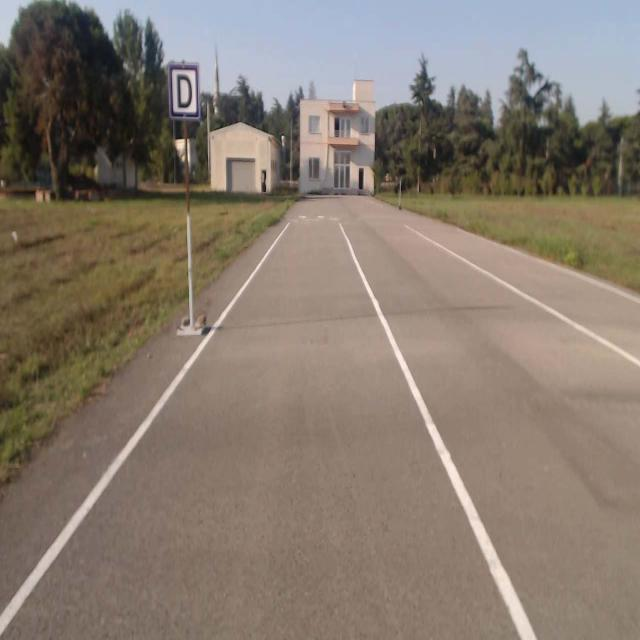durak: (167, 63, 199, 119)
